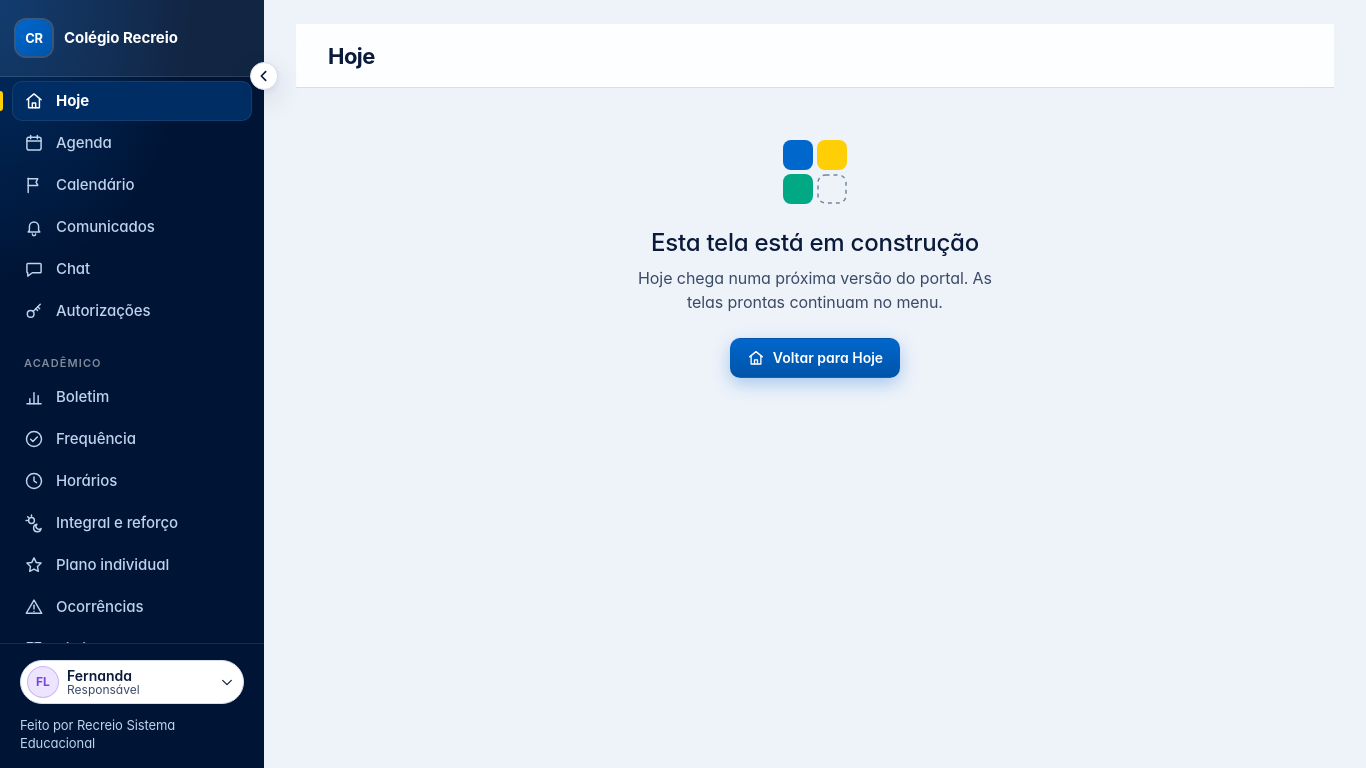
Test: PerfilLayout › o seletor de perfil troca de casca sem novo login
Click the button "FL Fernanda Responsável" at (132, 682), box [20, 660, 244, 704]
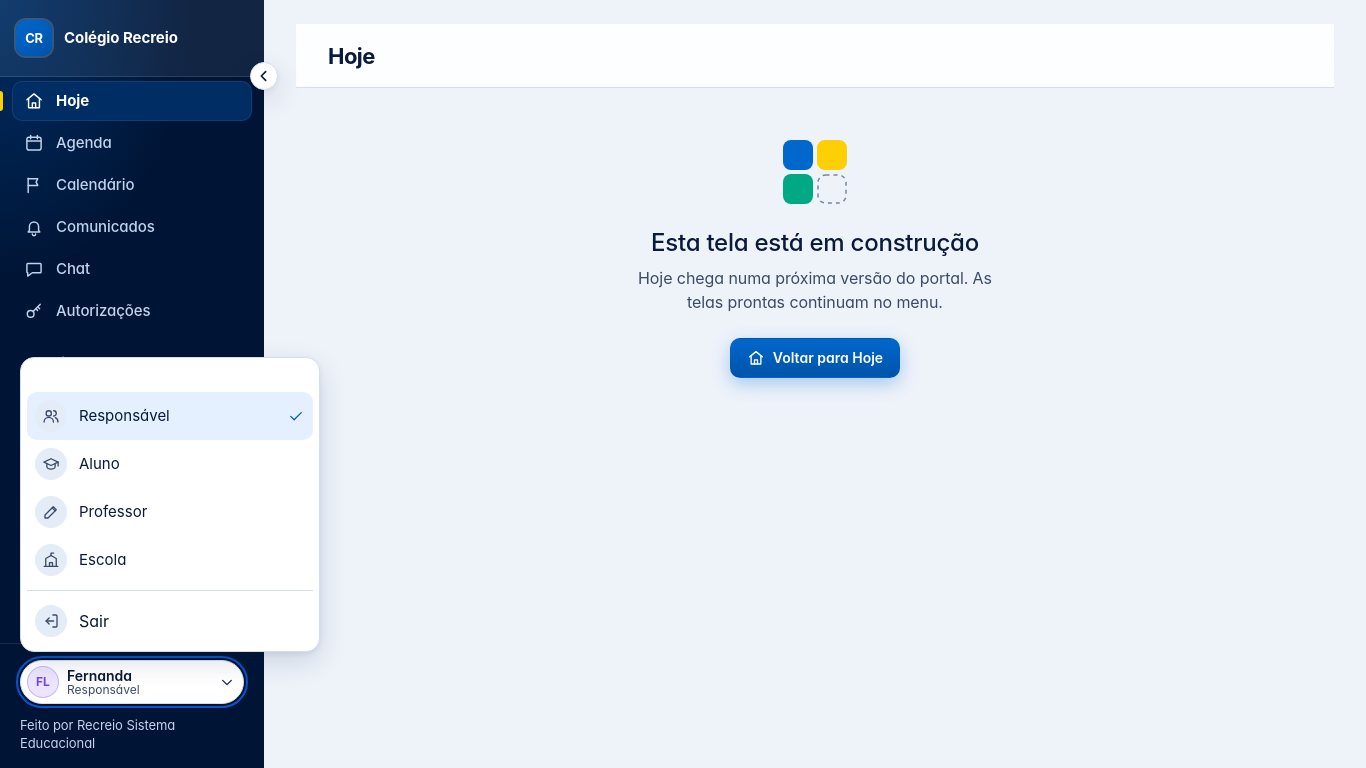
Click the button "Professor" at (51, 512), box [27, 488, 313, 536]
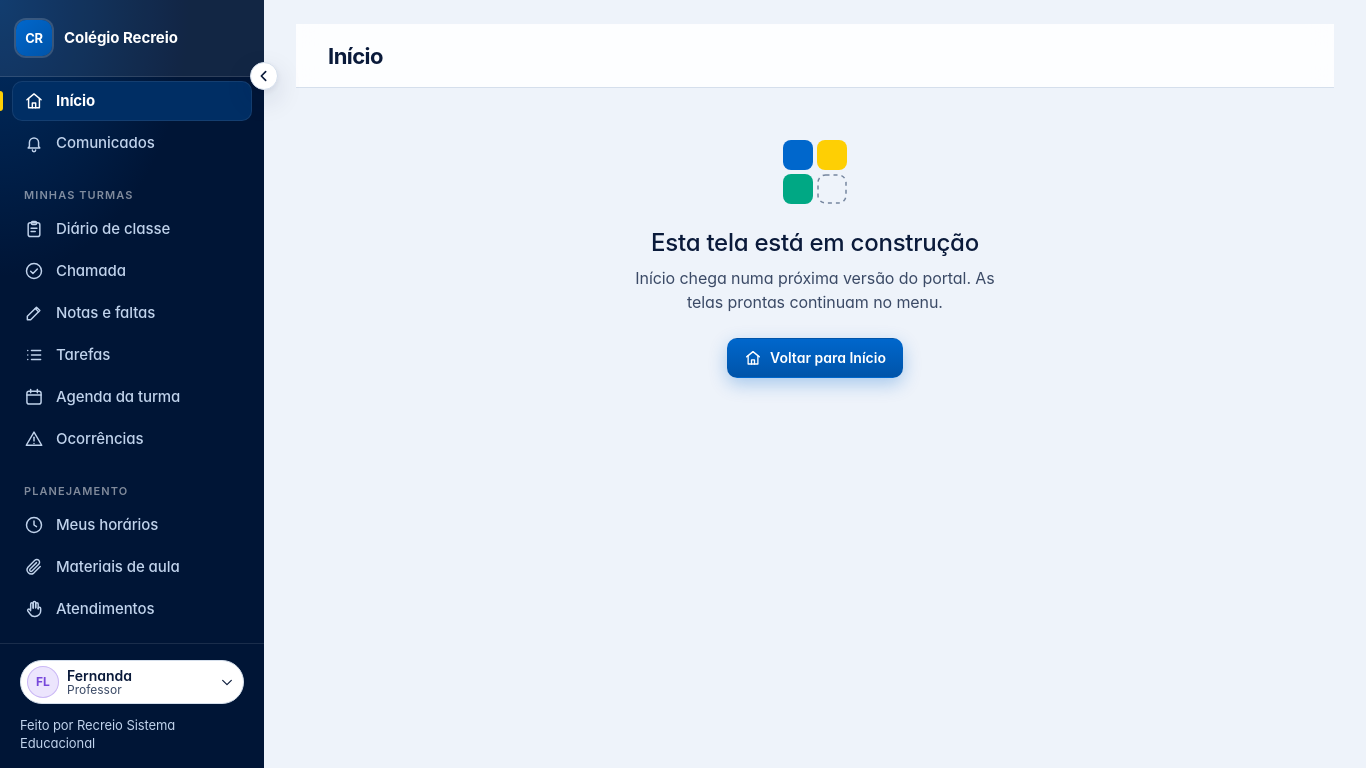
Expected: the link "Diário de classe" is shown, [24, 219, 170, 239]
